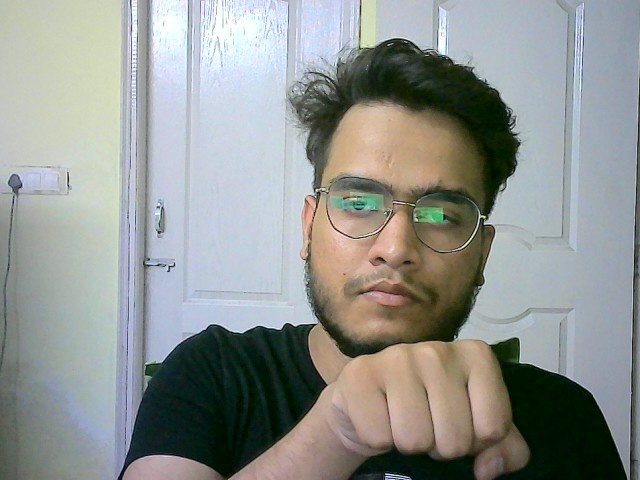Yes: (319, 328, 534, 480)
